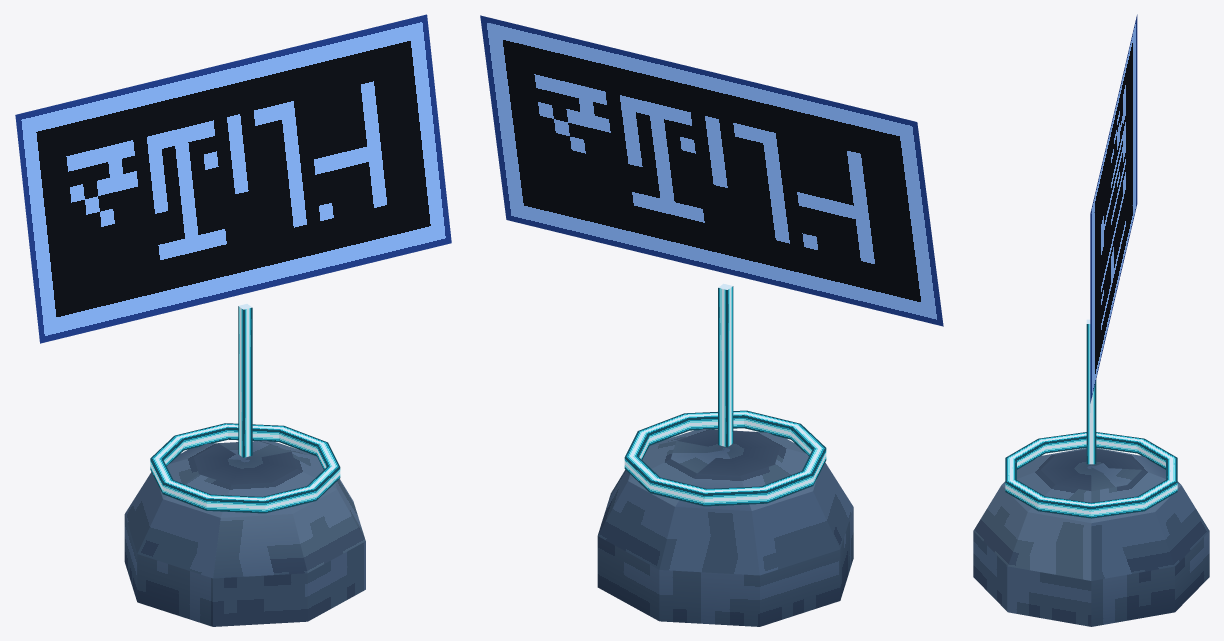
Rendered from cysign.holo.glb.
The picture shows the model from 3 angles, left to right: view 1: azimuth 30°, elevation 25°; view 2: azimuth 150°, elevation 25°; view 3: azimuth 270°, elevation 25°; orthographic projection. The views are drawn at different scales.
Visible parts, largest first — view 1: kit_card_card, kit_projector, kit_shaft; view 2: kit_card_card, kit_projector, kit_shaft; view 3: kit_projector, kit_card_card, kit_shaft.
Boxes of the visible parts, x1,y1,x2,y2 form: kit_card_card: [15, 14, 451, 343]; kit_projector: [124, 440, 365, 626]; kit_shaft: [150, 304, 340, 513]; kit_card_card: [480, 15, 943, 326]; kit_projector: [597, 429, 853, 626]; kit_shaft: [624, 283, 826, 506]; kit_projector: [973, 448, 1209, 626]; kit_card_card: [1090, 14, 1137, 403]; kit_shaft: [1005, 319, 1177, 518].
Bounding box in the file's own units: 1.6 × 1.83 × 0.84.
Materials: 3 (3 with a texture image).
